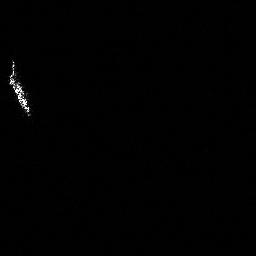ship: (7, 58, 33, 118)
